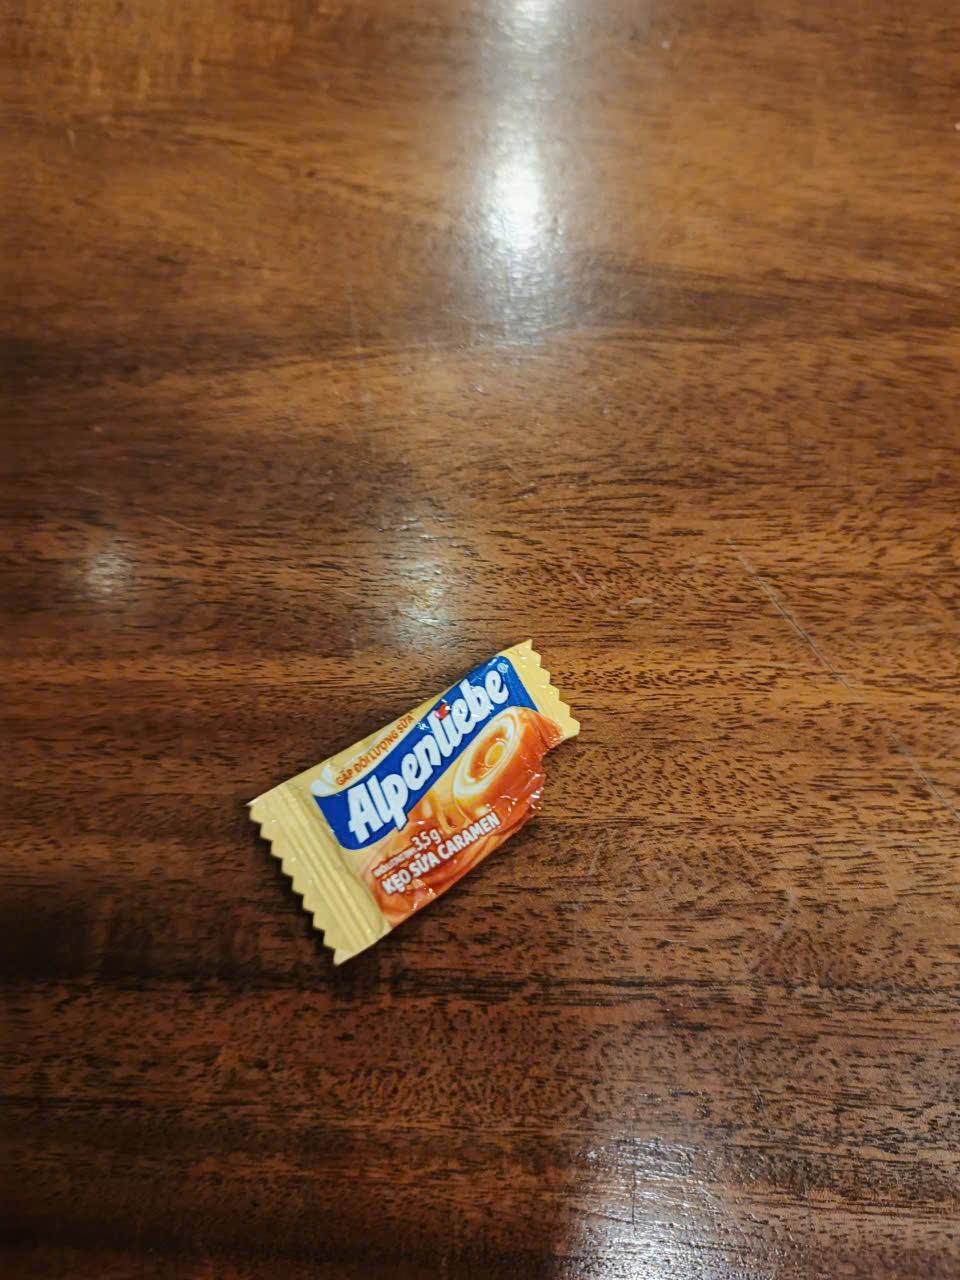Con lai: (250, 643, 584, 969)
